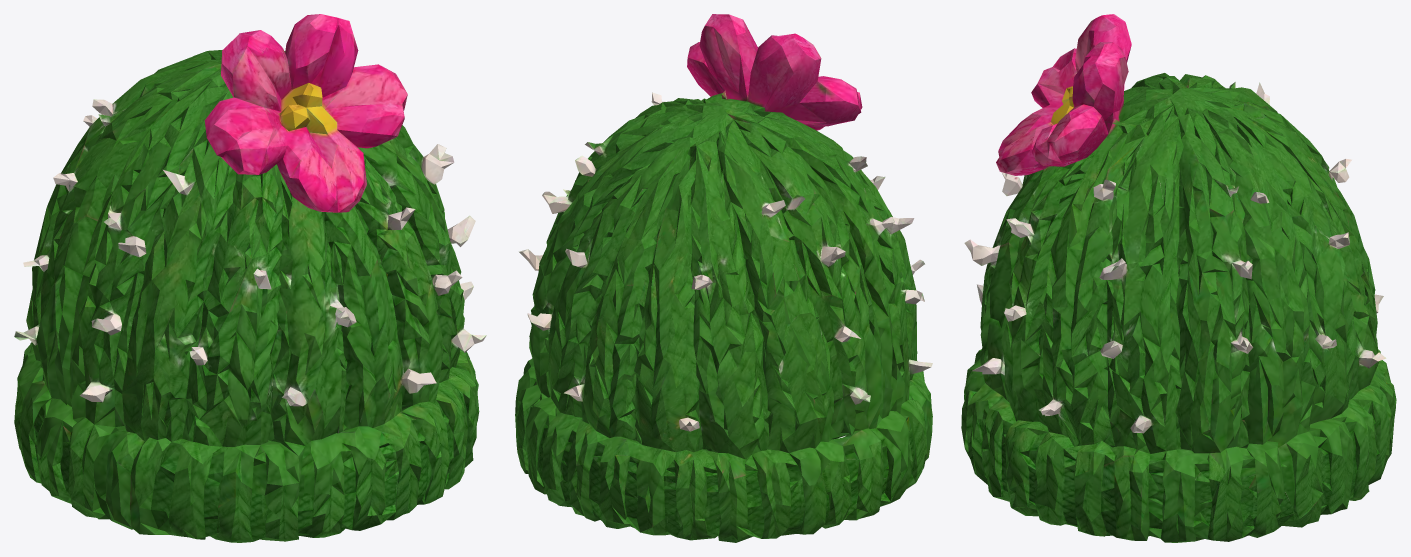
File: cactus_beanie.glb
3 renders of one model, left to right at view 1: azimuth 30°, elevation 25°; view 2: azimuth 150°, elevation 25°; view 3: azimuth 270°, elevation 25°, orthographic. The views are drawn at different scales.
Visible parts, largest first — view 1: Mesh_0; view 2: Mesh_0; view 3: Mesh_0.
Boxes of the visible parts, box(x1,y1,x2,y2) form: Mesh_0: box(14, 14, 486, 542); Mesh_0: box(515, 14, 932, 542); Mesh_0: box(961, 14, 1396, 542).
Bounding box in the file's own units: 0.931 × 1 × 0.9099.
1 material, 1 textured.
